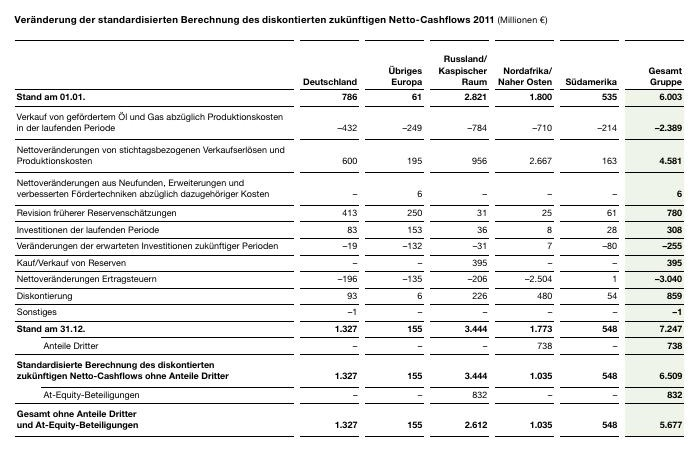table: (0, 0, 700, 454)
